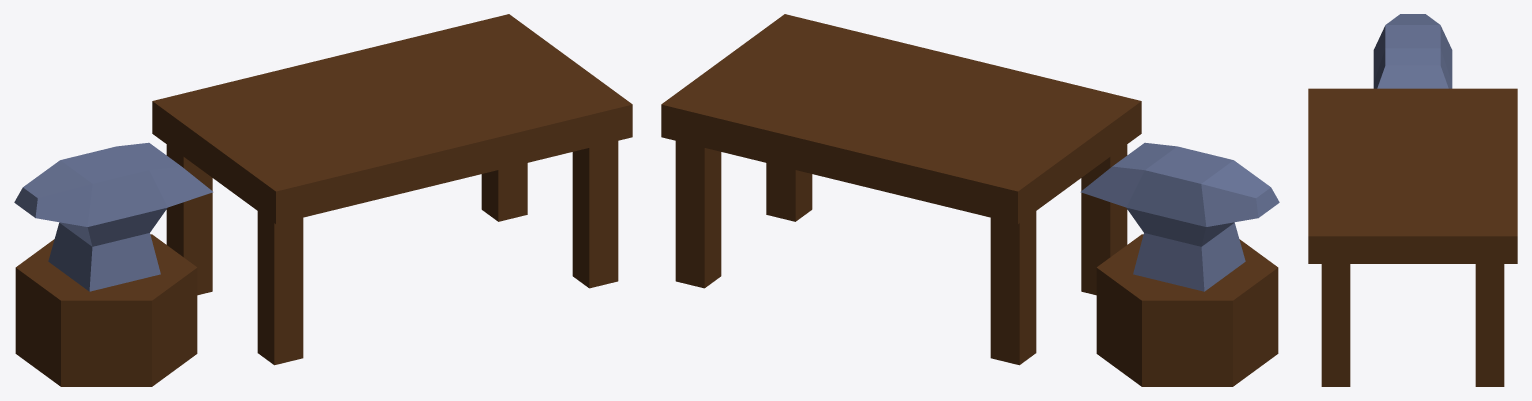
File: crafting-table.glb
3 renders of one model, left to right at view 1: azimuth 30°, elevation 25°; view 2: azimuth 150°, elevation 25°; view 3: azimuth 270°, elevation 25°, orthographic. The views are drawn at different scales.
Parts seen in each view (by area): view 1: Cube.004; view 2: Cube.004; view 3: Cube.004.
Boxes of the visible parts, left/top/right/bottom form: Cube.004: left=14, top=14, right=632, bottom=386; Cube.004: left=661, top=14, right=1279, bottom=386; Cube.004: left=1308, top=14, right=1517, bottom=386.
Size of the model in its own units: 6.94 by 2.29 by 2.72.
